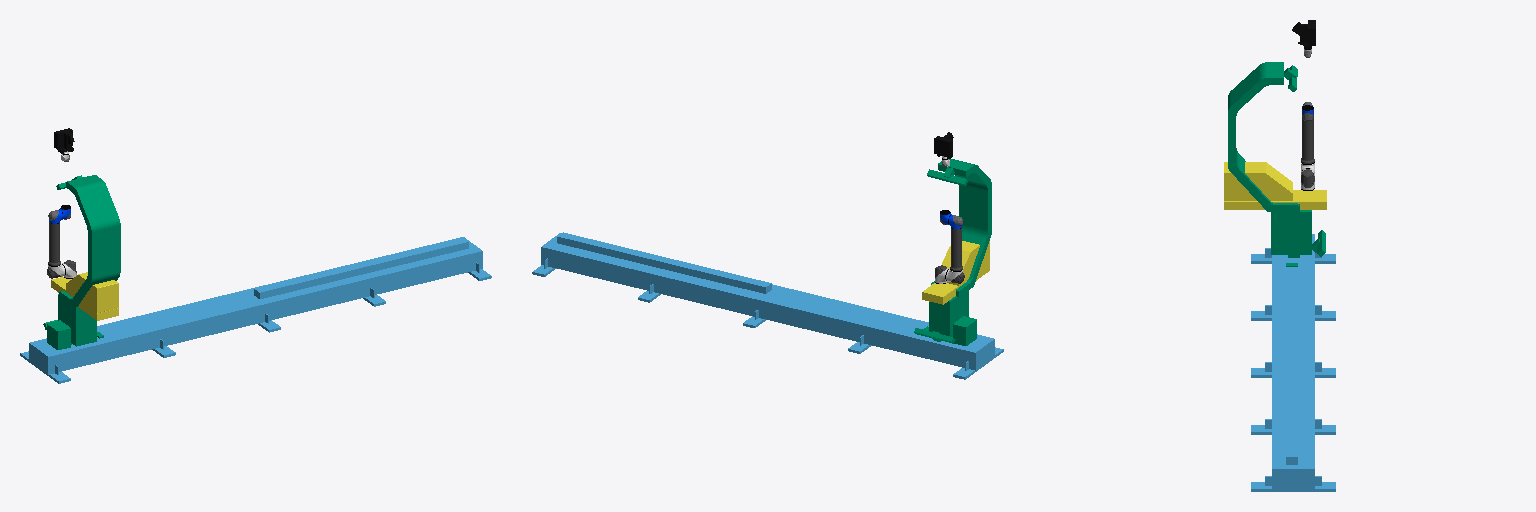
The robot description file, URDF, robot "rb20_1900es":
<?xml version='1.0' encoding='utf-8'?>
<robot name="rb20_1900es">
  <link name="rt_link_base" />
  <link name="rt_link_linear_track">
    <visual>
      <origin xyz="2.04636e-15 3.63798e-15 0.161" rpy="-1.86665e-30 0 -1.22465e-16" />
      <geometry>
        <box size="7.208 0.56 0.282" />
      </geometry>
    </visual>
    <collision>
      <origin xyz="2.04636e-15 3.63798e-15 0.161" rpy="-1.86665e-30 0 -1.22465e-16" />
      <geometry>
        <box size="7.208 0.56 0.282" />
      </geometry>
    </collision>
    <visual>
      <origin xyz="-1.7317 0.025 0.245" rpy="-1.5708 -3.15544e-30 -4.11927e-15" />
      <geometry>
        <box size="3.4624 0.33 0.165" />
      </geometry>
    </visual>
    <collision>
      <origin xyz="-1.7317 0.025 0.245" rpy="-1.5708 -3.15544e-30 -4.11927e-15" />
      <geometry>
        <box size="3.4624 0.33 0.165" />
      </geometry>
    </collision>
    <visual>
      <origin xyz="3.489 -9.09495e-16 9.41617e-15" rpy="-1.86665e-30 0 -1.22465e-16" />
      <geometry>
        <box size="0.2 1.1 0.04" />
      </geometry>
    </visual>
    <collision>
      <origin xyz="3.489 -9.09495e-16 9.41617e-15" rpy="-1.86665e-30 0 -1.22465e-16" />
      <geometry>
        <box size="0.2 1.1 0.04" />
      </geometry>
    </collision>
    <visual>
      <origin xyz="1.7445 -9.09495e-16 -5.86486e-16" rpy="-1.86665e-30 0 -1.22465e-16" />
      <geometry>
        <box size="0.2 1.1 0.04" />
      </geometry>
    </visual>
    <collision>
      <origin xyz="1.7445 -9.09495e-16 -5.86486e-16" rpy="-1.86665e-30 0 -1.22465e-16" />
      <geometry>
        <box size="0.2 1.1 0.04" />
      </geometry>
    </collision>
    <visual>
      <origin xyz="8.35598e-15 0 -7.44575e-16" rpy="-1.86665e-30 0 -1.22465e-16" />
      <geometry>
        <box size="0.2 1.1 0.04" />
      </geometry>
    </visual>
    <collision>
      <origin xyz="8.35598e-15 0 -7.44575e-16" rpy="-1.86665e-30 0 -1.22465e-16" />
      <geometry>
        <box size="0.2 1.1 0.04" />
      </geometry>
    </collision>
    <visual>
      <origin xyz="-1.7445 9.09495e-16 -7.46344e-16" rpy="-1.86665e-30 0 -1.22465e-16" />
      <geometry>
        <box size="0.2 1.1 0.04" />
      </geometry>
    </visual>
    <collision>
      <origin xyz="-1.7445 9.09495e-16 -7.46344e-16" rpy="-1.86665e-30 0 -1.22465e-16" />
      <geometry>
        <box size="0.2 1.1 0.04" />
      </geometry>
    </collision>
    <visual>
      <origin xyz="-3.489 1.36424e-15 -3.44107e-15" rpy="-1.86665e-30 0 -1.22465e-16" />
      <geometry>
        <box size="0.2 1.1 0.04" />
      </geometry>
    </visual>
    <collision>
      <origin xyz="-3.489 1.36424e-15 -3.44107e-15" rpy="-1.86665e-30 0 -1.22465e-16" />
      <geometry>
        <box size="0.2 1.1 0.04" />
      </geometry>
    </collision>
    <visual>
      <origin xyz="3.489 -3.02407e-14 0.085" rpy="1.5708 0 -4.11927e-15" />
      <geometry>
        <box size="0.015 0.13 0.74" />
      </geometry>
    </visual>
    <collision>
      <origin xyz="3.489 -3.02407e-14 0.085" rpy="1.5708 0 -4.11927e-15" />
      <geometry>
        <box size="0.015 0.13 0.74" />
      </geometry>
    </collision>
    <visual>
      <origin xyz="1.7445 -2.27374e-14 0.085" rpy="1.5708 0 -4.11927e-15" />
      <geometry>
        <box size="0.015 0.13 0.74" />
      </geometry>
    </visual>
    <collision>
      <origin xyz="1.7445 -2.27374e-14 0.085" rpy="1.5708 0 -4.11927e-15" />
      <geometry>
        <box size="0.015 0.13 0.74" />
      </geometry>
    </collision>
    <visual>
      <origin xyz="1.58593e-14 -1.50067e-14 0.085" rpy="1.5708 0 -4.11927e-15" />
      <geometry>
        <box size="0.015 0.13 0.74" />
      </geometry>
    </visual>
    <collision>
      <origin xyz="1.58593e-14 -1.50067e-14 0.085" rpy="1.5708 0 -4.11927e-15" />
      <geometry>
        <box size="0.015 0.13 0.74" />
      </geometry>
    </collision>
    <visual>
      <origin xyz="-1.7445 -7.50333e-15 0.085" rpy="1.5708 0 -4.11927e-15" />
      <geometry>
        <box size="0.015 0.13 0.74" />
      </geometry>
    </visual>
    <collision>
      <origin xyz="-1.7445 -7.50333e-15 0.085" rpy="1.5708 0 -4.11927e-15" />
      <geometry>
        <box size="0.015 0.13 0.74" />
      </geometry>
    </collision>
    <visual>
      <origin xyz="-3.489 -1.50067e-14 0.085" rpy="1.5708 0 -4.11927e-15" />
      <geometry>
        <box size="0.015 0.13 0.74" />
      </geometry>
    </visual>
    <collision>
      <origin xyz="-3.489 -1.50067e-14 0.085" rpy="1.5708 0 -4.11927e-15" />
      <geometry>
        <box size="0.015 0.13 0.74" />
      </geometry>
    </collision>
  </link>
  <link name="rt_link_carriage">
    <visual>
      <origin xyz="-0.513242 -1.5 0.2695" rpy="0 0 0" />
      <geometry>
        <box size="0.8 0.52 0.025" />
      </geometry>
    </visual>
    <collision>
      <origin xyz="-0.513242 -1.5 0.2695" rpy="0 0 0" />
      <geometry>
        <box size="0.8 0.52 0.025" />
      </geometry>
    </collision>
    <visual>
      <origin xyz="-0.153492 -1.525 0.32" rpy="0 0 0" />
      <geometry>
        <box size="0.0805 0.165 0.076" />
      </geometry>
    </visual>
    <collision>
      <origin xyz="-0.153492 -1.525 0.32" rpy="0 0 0" />
      <geometry>
        <box size="0.0805 0.165 0.076" />
      </geometry>
    </collision>
    <visual>
      <origin xyz="-0.802242 -1.5 0.458" rpy="0 0 0" />
      <geometry>
        <box size="0.226 0.3205 0.352" />
      </geometry>
    </visual>
    <collision>
      <origin xyz="-0.802242 -1.5 0.458" rpy="0 0 0" />
      <geometry>
        <box size="0.226 0.3205 0.352" />
      </geometry>
    </collision>
    <visual>
      <origin xyz="-0.537742 -1.5025 0.347" rpy="0 0 0" />
      <geometry>
        <box size="0.281 0.155 0.102" />
      </geometry>
    </visual>
    <collision>
      <origin xyz="-0.537742 -1.5025 0.347" rpy="0 0 0" />
      <geometry>
        <box size="0.281 0.155 0.102" />
      </geometry>
    </collision>
    <visual>
      <origin xyz="-0.513242 -1.535 0.7085" rpy="0 0 0" />
      <geometry>
        <box size="0.352 0.53 0.621" />
      </geometry>
    </visual>
    <collision>
      <origin xyz="-0.513242 -1.535 0.7085" rpy="0 0 0" />
      <geometry>
        <box size="0.352 0.53 0.621" />
      </geometry>
    </collision>
    <visual>
      <origin xyz="-0.51251 -1.55213 2.88985" rpy="3.13612 -0.89071 1.5708" />
      <geometry>
        <box size="0.1 0.0953271 0.145436" />
      </geometry>
    </visual>
    <collision>
      <origin xyz="-0.51251 -1.55213 2.88985" rpy="3.13612 -0.89071 1.5708" />
      <geometry>
        <box size="0.1 0.0953271 0.145436" />
      </geometry>
    </collision>
    <visual>
      <origin xyz="-0.507502 -1.50994 2.84151" rpy="-3.12431 0.89071 -1.5708" />
      <geometry>
        <box size="0.0679 0.627868 0.0901768" />
      </geometry>
    </visual>
    <collision>
      <origin xyz="-0.507502 -1.50994 2.84151" rpy="-3.12431 0.89071 -1.5708" />
      <geometry>
        <box size="0.0679 0.627868 0.0901768" />
      </geometry>
    </collision>
    <visual>
      <origin xyz="-0.513241 -1.19258 0.455258" rpy="3.14123 -0.757225 1.5708" />
      <geometry>
        <box size="0.145 0.0950325 0.100031" />
      </geometry>
    </visual>
    <collision>
      <origin xyz="-0.513241 -1.19258 0.455258" rpy="3.14123 -0.757225 1.5708" />
      <geometry>
        <box size="0.145 0.0950325 0.100031" />
      </geometry>
    </collision>
    <visual>
      <origin xyz="-0.507874 -1.14093 0.488655" rpy="-3.13022 0.757225 -1.5708" />
      <geometry>
        <box size="0.0849506 0.627918 0.0683716" />
      </geometry>
    </visual>
    <collision>
      <origin xyz="-0.507874 -1.14093 0.488655" rpy="-3.13022 0.757225 -1.5708" />
      <geometry>
        <box size="0.0849506 0.627918 0.0683716" />
      </geometry>
    </collision>
    <visual>
      <origin xyz="0 0 0" rpy="0 0 0" />
      <geometry>
        <mesh filename="meshes/slab_0_1_1_350_1832520b.stl" scale="0.001 0.001 0.001" />
      </geometry>
    </visual>
    <collision>
      <origin xyz="0 0 0" rpy="0 0 0" />
      <geometry>
        <mesh filename="meshes/slab_0_1_1_350_1832520b.stl" scale="0.001 0.001 0.001" />
      </geometry>
    </collision>
  </link>
  <link name="rt_link_slide">
    <visual>
      <origin xyz="-0.0188267 -0.439 -0.124014" rpy="-1.69295e-27 -5.6747e-15 6.0071e-13" />
      <geometry>
        <box size="0.352 1.332 0.12" />
      </geometry>
    </visual>
    <collision>
      <origin xyz="-0.0188267 -0.439 -0.124014" rpy="-1.69295e-27 -5.6747e-15 6.0071e-13" />
      <geometry>
        <box size="0.352 1.332 0.12" />
      </geometry>
    </collision>
    <visual>
      <origin xyz="0.493416 0.801308 -1.23201" rpy="-1.69295e-27 -5.6747e-15 6.0071e-13" />
      <geometry>
        <mesh filename="meshes/slab_0_1_1_720_e744c549.stl" scale="0.001 0.001 0.001" />
      </geometry>
    </visual>
    <collision>
      <origin xyz="0.493416 0.801308 -1.23201" rpy="-1.69295e-27 -5.6747e-15 6.0071e-13" />
      <geometry>
        <mesh filename="meshes/slab_0_1_1_720_e744c549.stl" scale="0.001 0.001 0.001" />
      </geometry>
    </collision>
  </link>
  <link name="rt_link0">
    <visual>
      <origin xyz="0 0 0" rpy="0 0 1.57079632679" />
      <geometry>
        <mesh filename="meshes/rb20_1900es/visual/link0.dae" />
      </geometry>
    </visual>
    <collision>
      <origin xyz="0 0 0" rpy="0 0 1.57079632679" />
      <geometry>
        <mesh filename="meshes/rb20_1900es/collision/link0.stl" />
      </geometry>
    </collision>
  </link>
  <link name="rt_link1">
    <visual>
      <geometry>
        <mesh filename="meshes/rb20_1900es/visual/link1.dae" />
      </geometry>
    </visual>
    <collision>
      <geometry>
        <mesh filename="meshes/rb20_1900es/collision/link1.stl" />
      </geometry>
    </collision>
  </link>
  <link name="rt_link2">
    <visual>
      <geometry>
        <mesh filename="meshes/rb20_1900es/visual/link2.dae" />
      </geometry>
    </visual>
    <collision>
      <geometry>
        <mesh filename="meshes/rb20_1900es/collision/link2.stl" />
      </geometry>
    </collision>
  </link>
  <link name="rt_link3">
    <visual>
      <geometry>
        <mesh filename="meshes/rb20_1900es/visual/link3.dae" />
      </geometry>
    </visual>
    <collision>
      <geometry>
        <mesh filename="meshes/rb20_1900es/collision/link3.stl" />
      </geometry>
    </collision>
  </link>
  <link name="rt_link4">
    <visual>
      <geometry>
        <mesh filename="meshes/rb20_1900es/visual/link4.dae" />
      </geometry>
    </visual>
    <collision>
      <geometry>
        <mesh filename="meshes/rb20_1900es/collision/link4.stl" />
      </geometry>
    </collision>
  </link>
  <link name="rt_link5">
    <visual>
      <geometry>
        <mesh filename="meshes/rb20_1900es/visual/link5.dae" />
      </geometry>
    </visual>
    <collision>
      <geometry>
        <mesh filename="meshes/rb20_1900es/collision/link5.stl" />
      </geometry>
    </collision>
  </link>
  <link name="rt_link6">
    <visual>
      <geometry>
        <mesh filename="meshes/rb20_1900es/visual/link6.dae" />
      </geometry>
    </visual>
    <collision>
      <geometry>
        <mesh filename="meshes/rb20_1900es/collision/link6.stl" />
      </geometry>
    </collision>
  </link>
  <link name="rt_link_end">
    <visual>
      <origin xyz="0 0 0" rpy="0 0 0" />
      <geometry>
        <mesh filename="meshes/tool_rt_visual.stl" />
      </geometry>
      <material name="tool_black">
        <color rgba="0.1 0.1 0.1 1" />
      </material>
    </visual>
    <collision>
      <origin xyz="0 0 0" rpy="0 0 0" />
      <geometry>
        <mesh filename="meshes/tool_rt.stl" />
      </geometry>
    </collision>
  </link>
  <joint name="rt_joint_rail_mount" type="fixed">
    <origin xyz="0.32245 -1.5 0.03" rpy="0 0 3.14159" />
    <parent link="rt_link_base" />
    <child link="rt_link_linear_track" />
  </joint>
  <joint name="rt_joint_linear_track" type="prismatic">
    <origin xyz="2.465754 -1.50000336 -0.03" rpy="0 0 3.14159" />
    <parent link="rt_link_linear_track" />
    <child link="rt_link_carriage" />
    <axis xyz="1 0 0" />
    <limit lower="0" upper="4.87" effort="1000.0" velocity="1.0" />
  </joint>
  <joint name="rt_joint_carriage" type="prismatic">
    <origin xyz="-0.493416 -1.3 1.23201" rpy="0 0 0" />
    <parent link="rt_link_carriage" />
    <child link="rt_link_slide" />
    <axis xyz="0 1 0" />
    <limit lower="0" upper="0.7" effort="1000.0" velocity="1.0" />
  </joint>
  <joint name="rt_joint_mount" type="fixed">
    <origin xyz="-0.0198267 -0.019 -0.0639638915" rpy="0 0 -3.14159" />
    <parent link="rt_link_slide" />
    <child link="rt_link0" />
  </joint>
  <joint name="rt_base" type="revolute">
    <origin rpy="0 0 1.57079632679" xyz="0 0 0.241" />
    <parent link="rt_link0" />
    <child link="rt_link1" />
    <axis xyz="0 0 1" />
    <limit effort="10" lower="-3.14" upper="3.14" velocity="3.14" />
  </joint>
  <joint name="rt_shoulder" type="revolute">
    <origin rpy="0 0 0" xyz="0 -0.2545 0" />
    <parent link="rt_link1" />
    <child link="rt_link2" />
    <axis xyz="0 1 0" />
    <limit effort="10" lower="-3.14" upper="3.14" velocity="3.14" />
  </joint>
  <joint name="rt_elbow" type="revolute">
    <origin rpy="0 0 0" xyz="0 0 0.885" />
    <parent link="rt_link2" />
    <child link="rt_link3" />
    <axis xyz="0 1 0" />
    <limit effort="10" lower="-3.14" upper="3.14" velocity="3.14" />
  </joint>
  <joint name="rt_wrist1" type="revolute">
    <origin rpy="0 0 0" xyz="0 0.1875 0" />
    <parent link="rt_link3" />
    <child link="rt_link4" />
    <axis xyz="0 0 1" />
    <limit effort="10" lower="-3.14" upper="3.14" velocity="3.14" />
  </joint>
  <joint name="rt_wrist2" type="revolute">
    <origin rpy="0 0 0" xyz="0 -0.1292 0.885" />
    <parent link="rt_link4" />
    <child link="rt_link5" />
    <axis xyz="0 1 0" />
    <limit effort="10" lower="-3.14" upper="3.14" velocity="3.14" />
  </joint>
  <joint name="rt_wrist3" type="revolute">
    <origin rpy="0 0 0" xyz="0 0.1292 0" />
    <parent link="rt_link5" />
    <child link="rt_link6" />
    <axis xyz="0 0 1" />
    <limit effort="10" lower="-3.14" upper="3.14" velocity="3.14" />
  </joint>
  <joint name="rt_joint_end" type="fixed">
    <origin xyz="-0.0534984055 0.000538807289 0.39204655" rpy="0 0 3.14083862" />
    <parent link="rt_link6" />
    <child link="rt_link_end" />
  </joint>
</robot>

--- Render facts (derived) ---
Views: 3 orthographic renders of the robot side by side, from view 1: azimuth 30°, elevation 25°; view 2: azimuth 150°, elevation 25°; view 3: azimuth 270°, elevation 25°.
Model rb20_1900es with 12 links and 11 joints (6 revolute, 2 prismatic, 3 fixed), rooted at rt_link_base, posed every joint at zero.
Links seen in each view (by area): view 1: rt_link_linear_track, rt_link_carriage, rt_link_slide, rt_link2; view 2: rt_link_linear_track, rt_link_carriage, rt_link_slide, rt_link2; view 3: rt_link_linear_track, rt_link_carriage, rt_link_slide, rt_link2.
Link boxes in pixels (x1,y1,x2,y2): rt_link_linear_track: (20,237,491,383); rt_link_carriage: (43,175,120,349); rt_link_slide: (51,272,118,320); rt_link2: (47,209,65,278); rt_link_linear_track: (532,232,1003,379); rt_link_carriage: (914,159,991,345); rt_link_slide: (922,241,989,304); rt_link2: (945,215,964,283); rt_link_linear_track: (1251,234,1335,491); rt_link_carriage: (1228,62,1325,266); rt_link_slide: (1224,162,1326,209); rt_link2: (1301,102,1314,172).
Size in the robot's own frame: 7.21 by 1.46 by 3.6 metres.
8 mesh visuals loaded from 10 distinct referenced files (3 binary STL, 5 Collada DAE); not drawn: 2 (reference not matched to a file when rendering).
